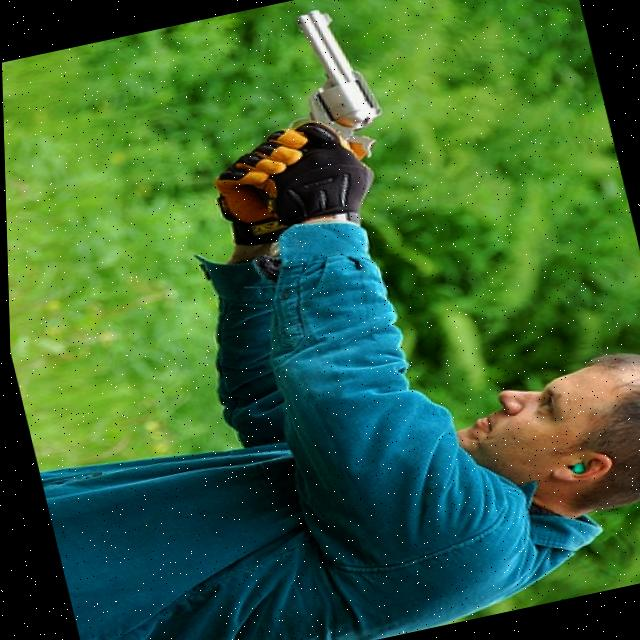pistol: (259, 0, 392, 174)
